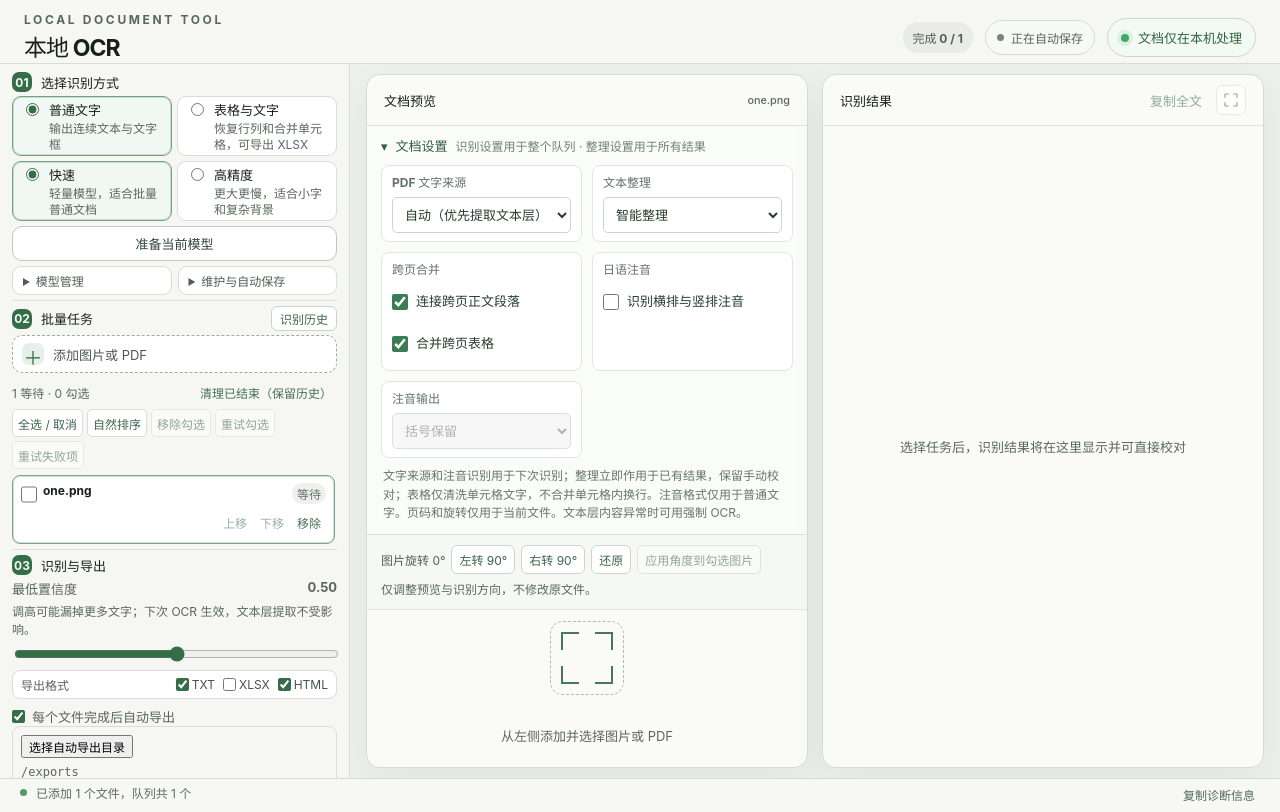
Scenario: result retention and automatic exports › blocks automatic export with no directory or with only XLSX for text
This screenshot has width=1280, height=812.
Step 1. Click the checkbox labelled "TXT" → (182, 685), box left=176, top=678, right=189, bottom=691
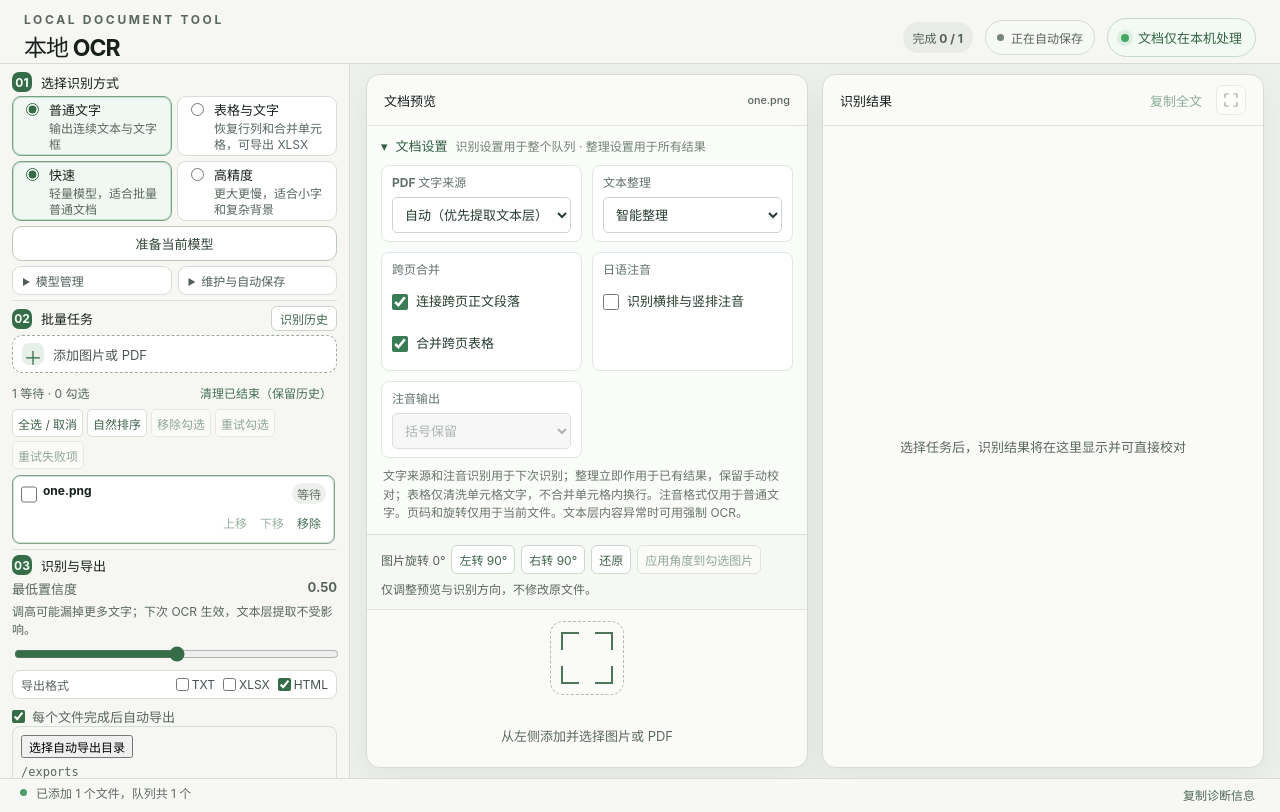
Step 2. Click the checkbox labelled "XLSX" → (230, 685), box left=223, top=678, right=236, bottom=691
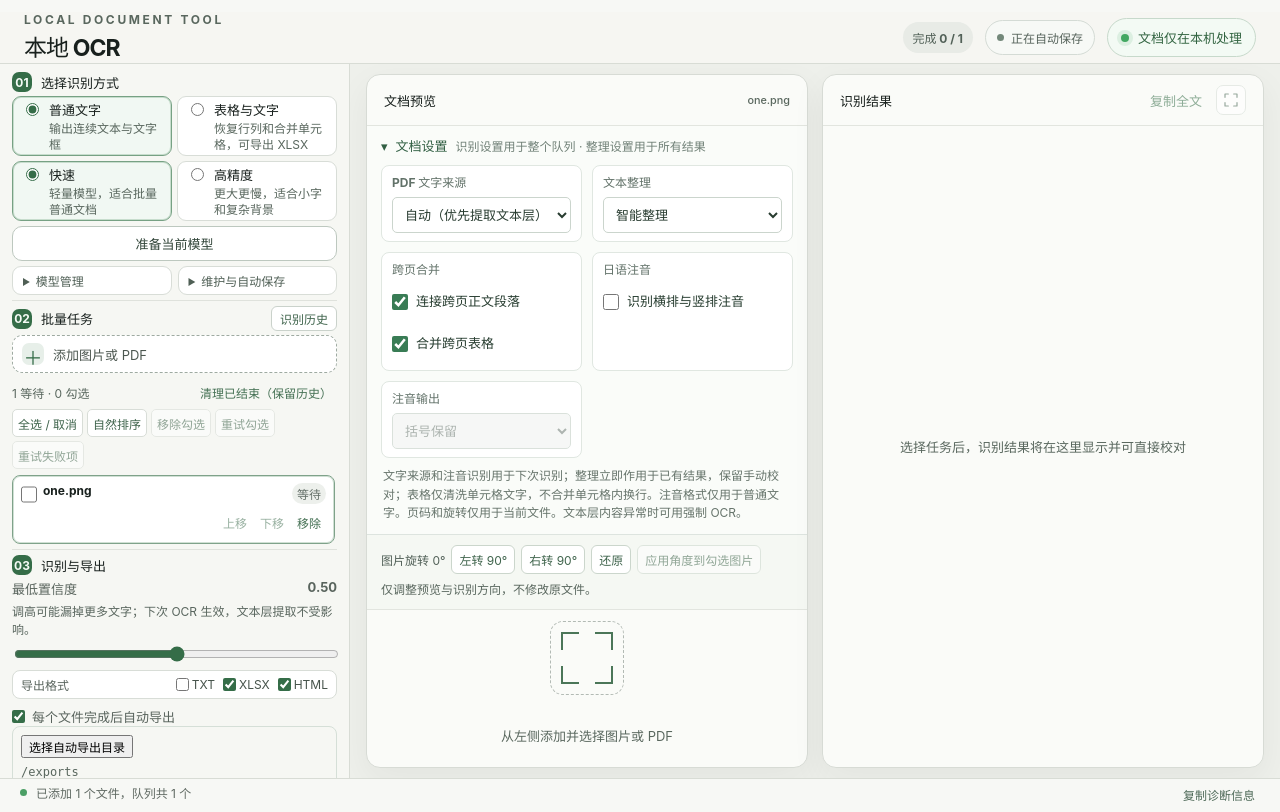
Step 3. Click the checkbox labelled "HTML" → (284, 685), box left=278, top=678, right=291, bottom=691
(page scrolled)
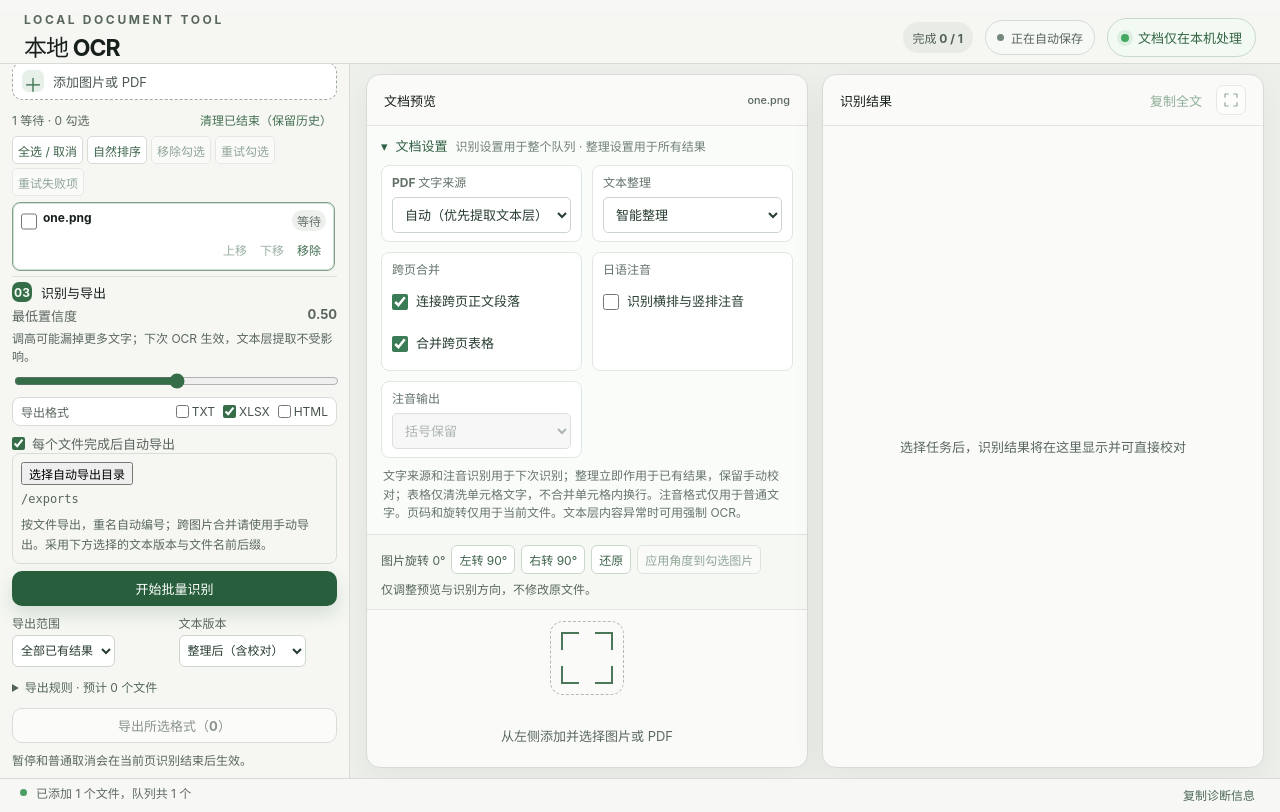
Step 4. Click the button "开始批量识别" → (174, 588), box left=12, top=570, right=337, bottom=606
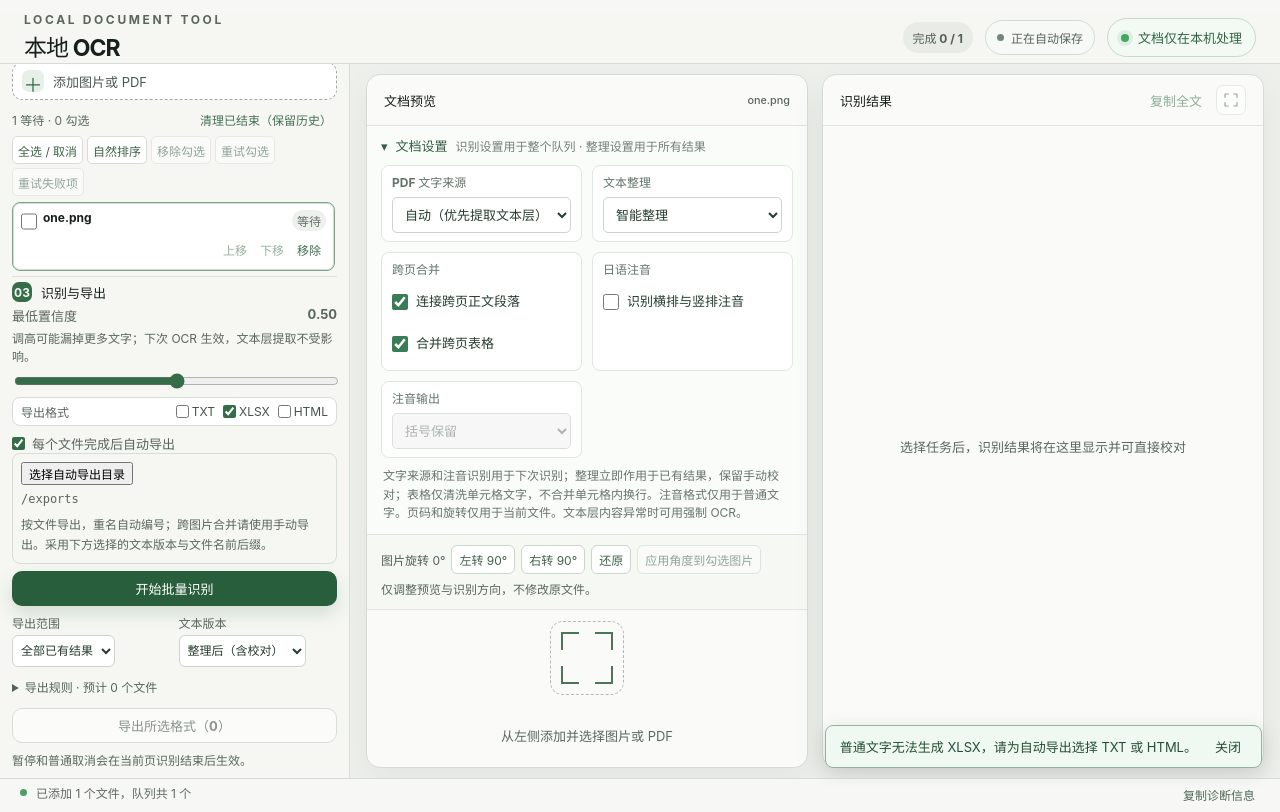
expect the text "普通文字无法生成 XLSX" is shown: met, box left=840, top=739, right=1197, bottom=755
